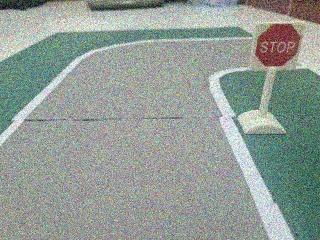stop: (249, 21, 305, 70)
